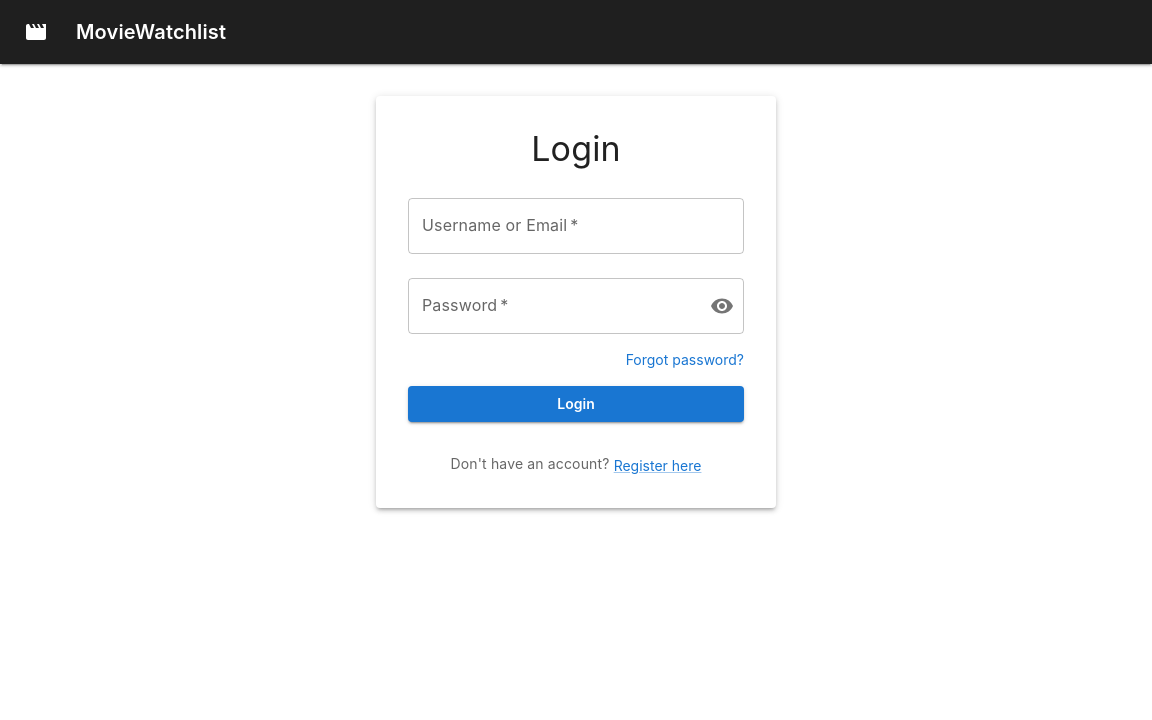
it: LoginForm › should show validation error for short username
Type "ab" into the field labelled "Username or Email *" at (576, 226), box [408, 198, 744, 254]
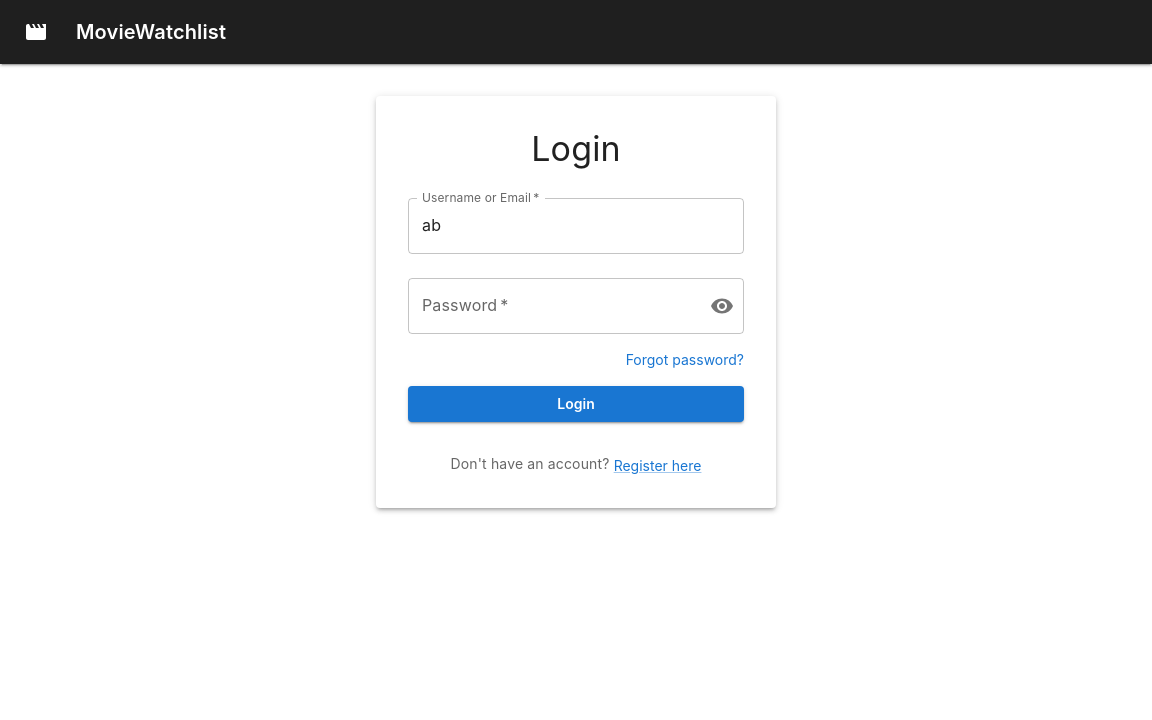
Type "Password123" into the password field named "password" at (551, 306), box [408, 278, 694, 334]
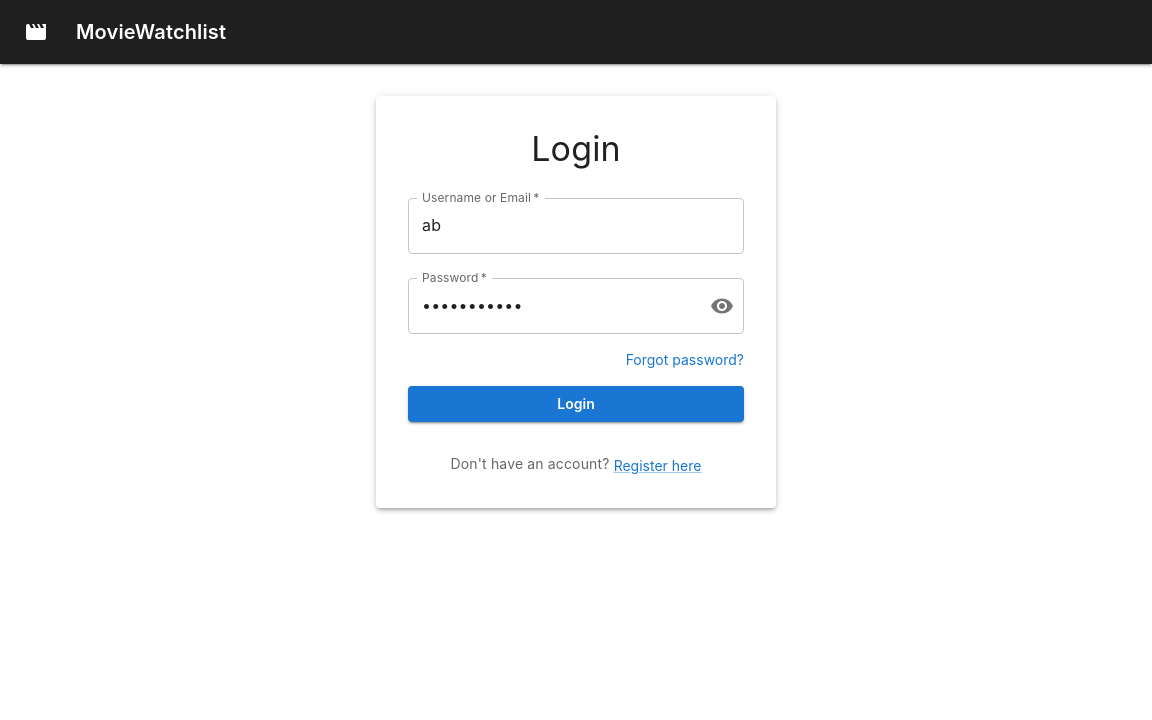
Click the button "Login" at (576, 404), box [408, 386, 744, 422]
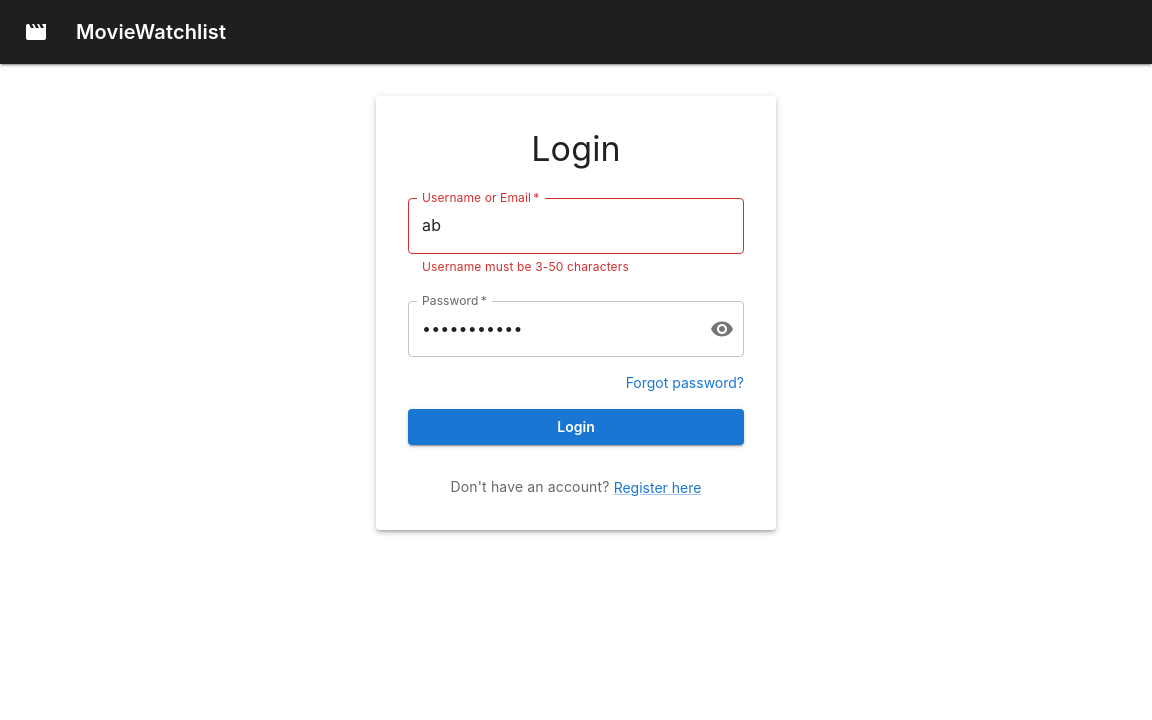
Now the text "Username must be 3-50 characters" is shown, box [422, 259, 629, 274]
